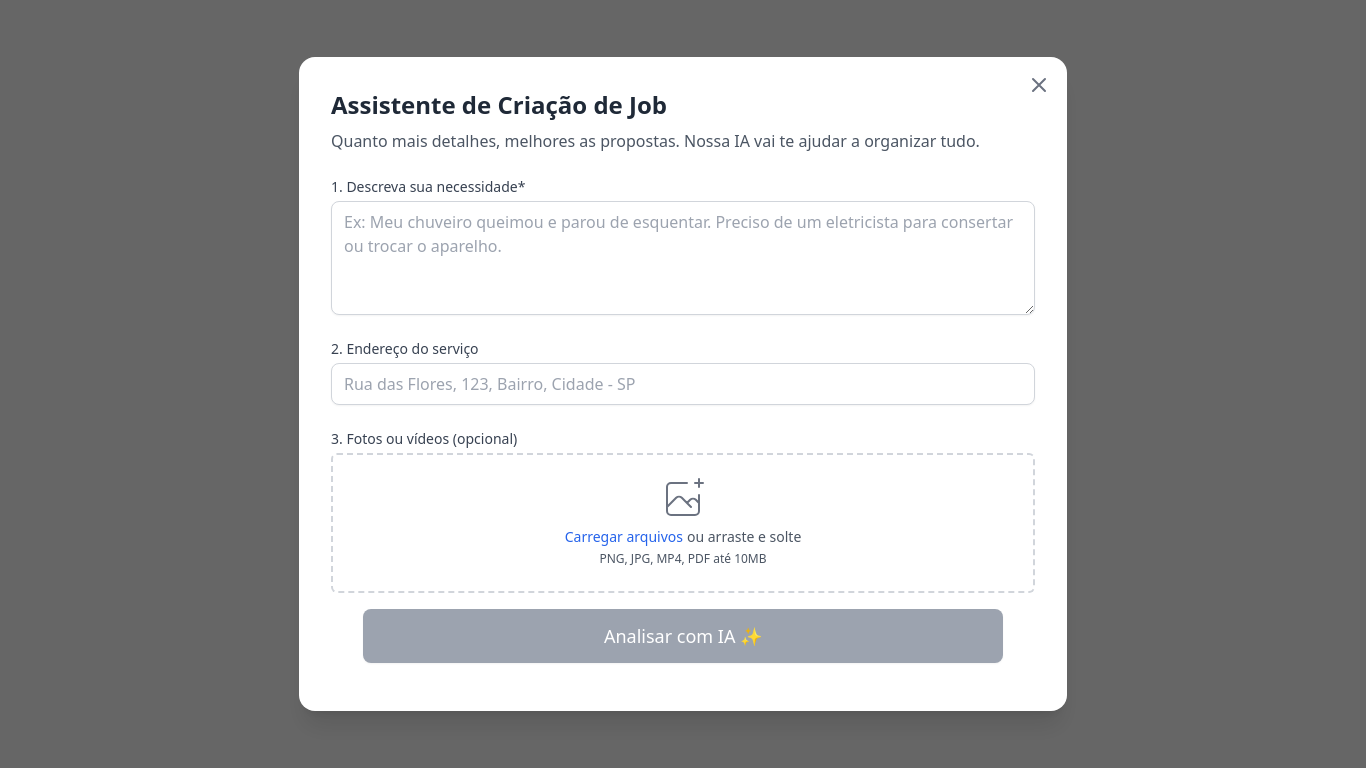
Test: AIJobRequestWizard › valida descrição muito curta
Replace the text in the text box with placeholder "Ex:" with "abc" at coordinates (683, 258), box [331, 201, 1035, 315]
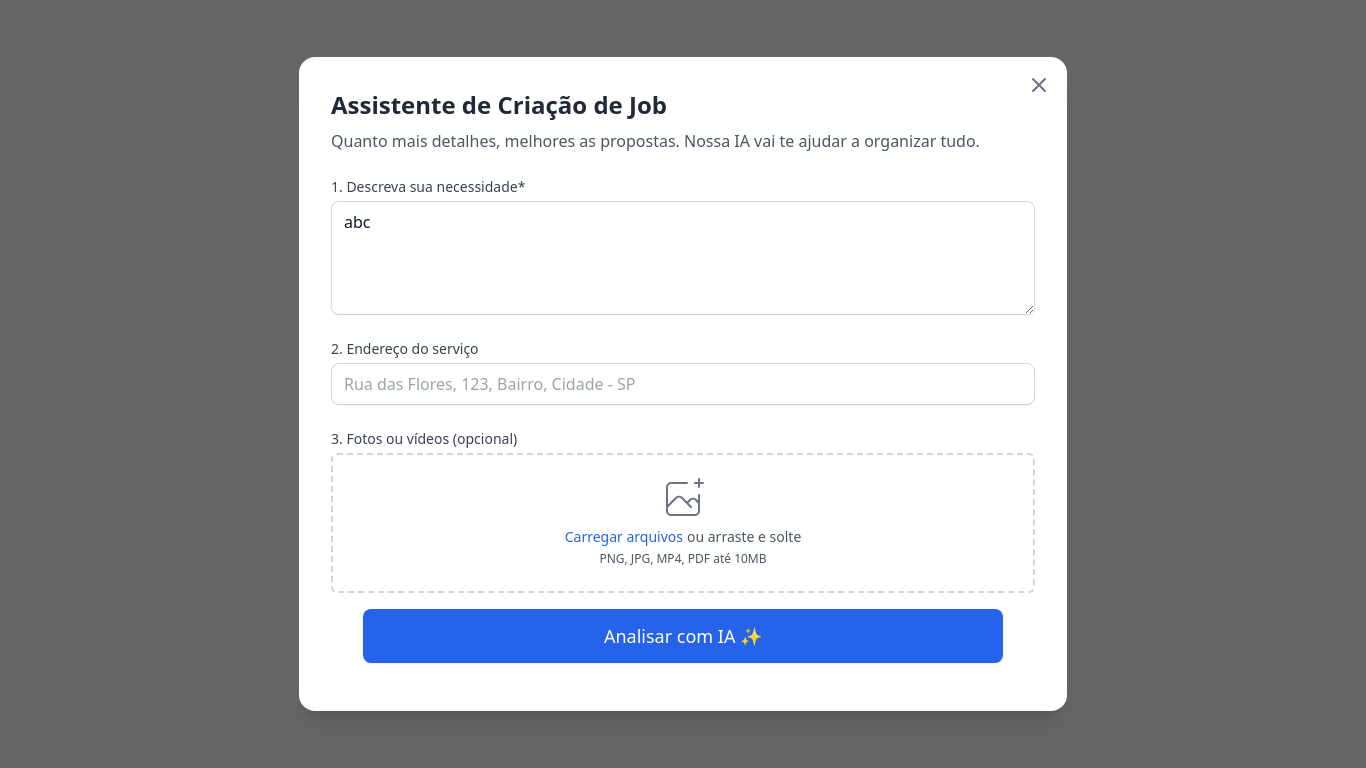
Click the button with test id "wizard-analyze-button" at coordinates (683, 636), box [363, 609, 1003, 663]
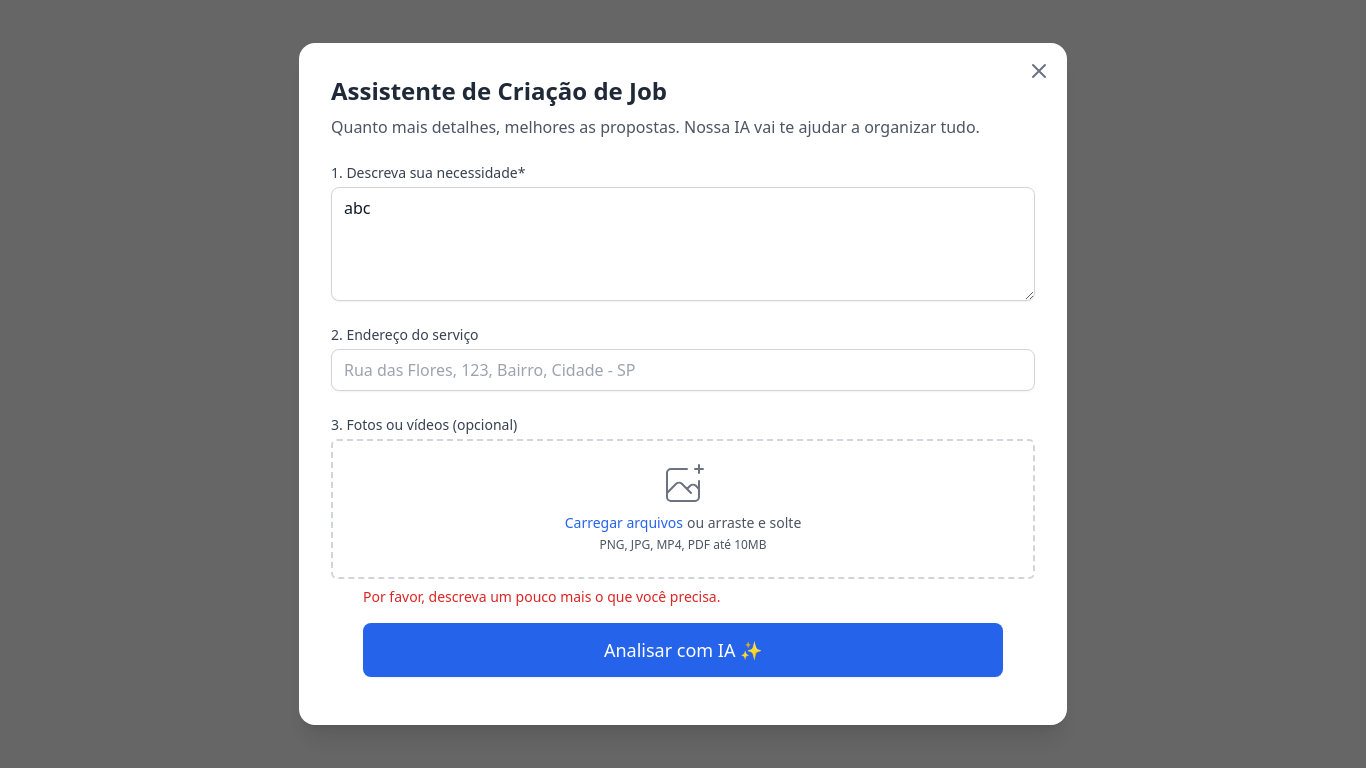
Now the text "Por favor, descreva um pouco mais o que você precisa." is shown, box [363, 587, 720, 606]
